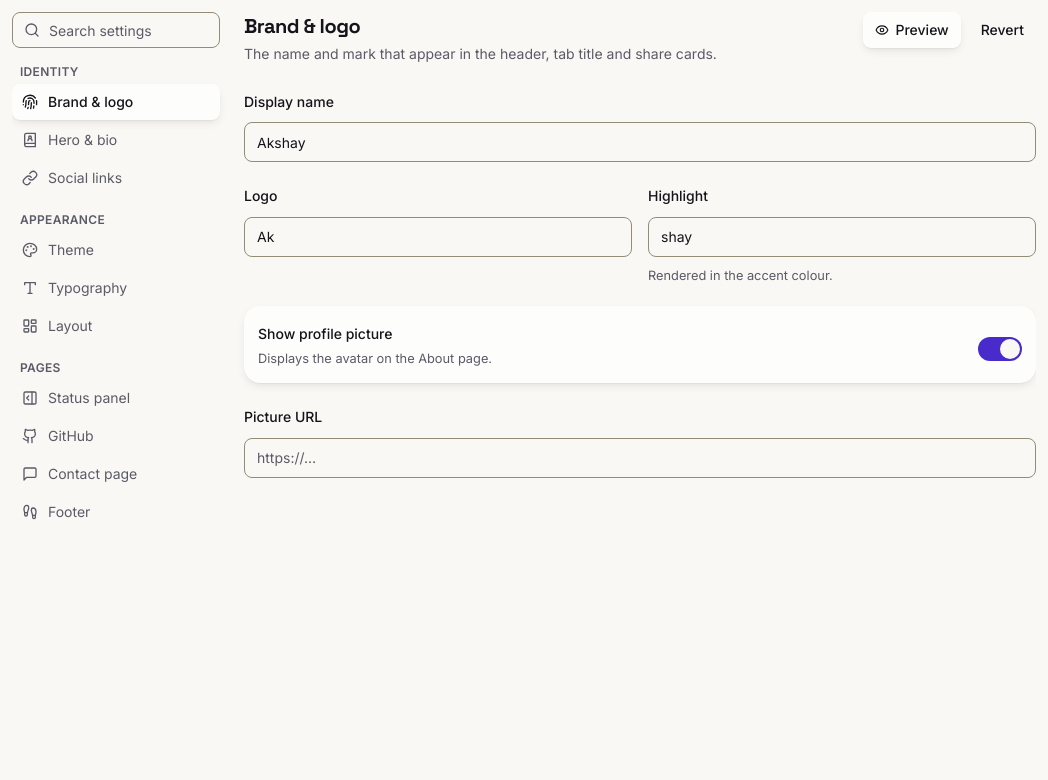
Test: SettingsPage save all › names every dirty group in the bar
Replace the text in the field labelled "Display name" with "Akshay B" at (640, 142), box [244,122,1036,162]
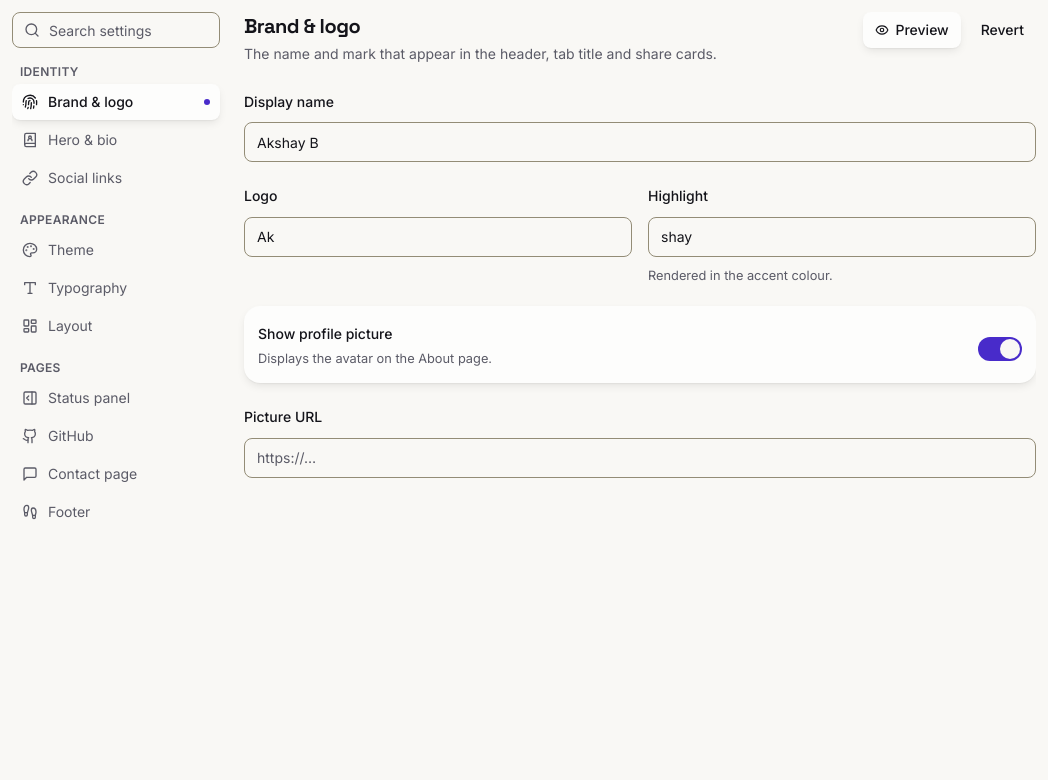
Click the button "Footer" at (116, 512), box [12,494,220,530]
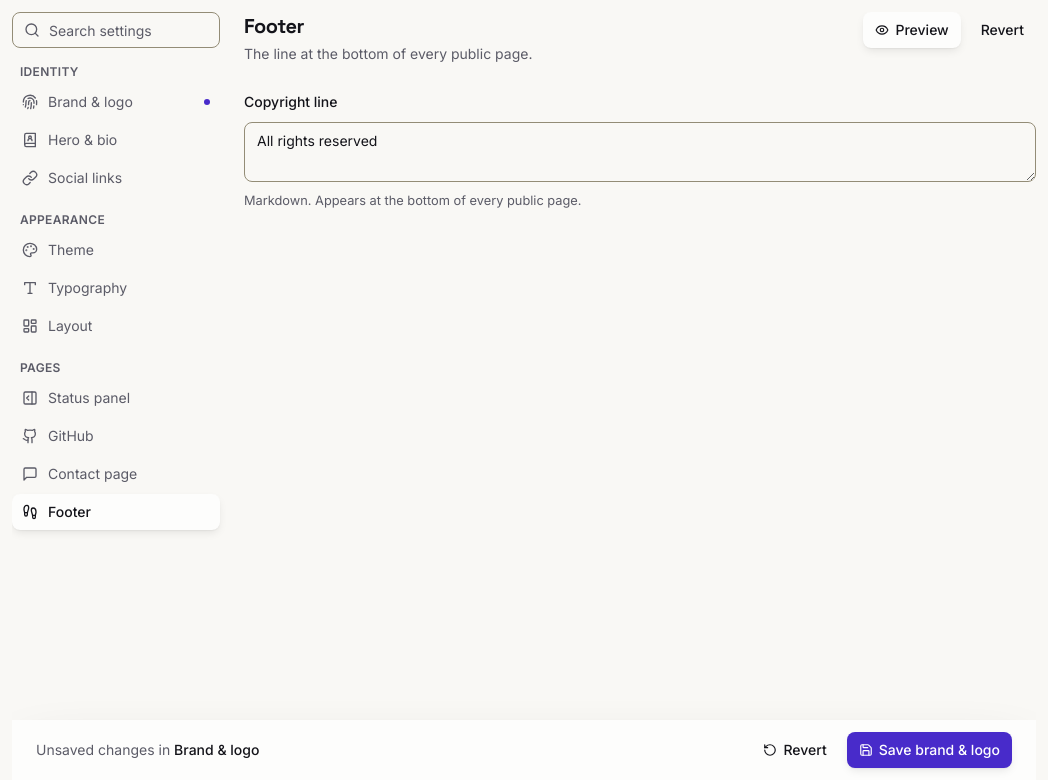
Replace the text in the text box labelled "Copyright line" with "© 2026" at (640, 152), box [244,122,1036,182]
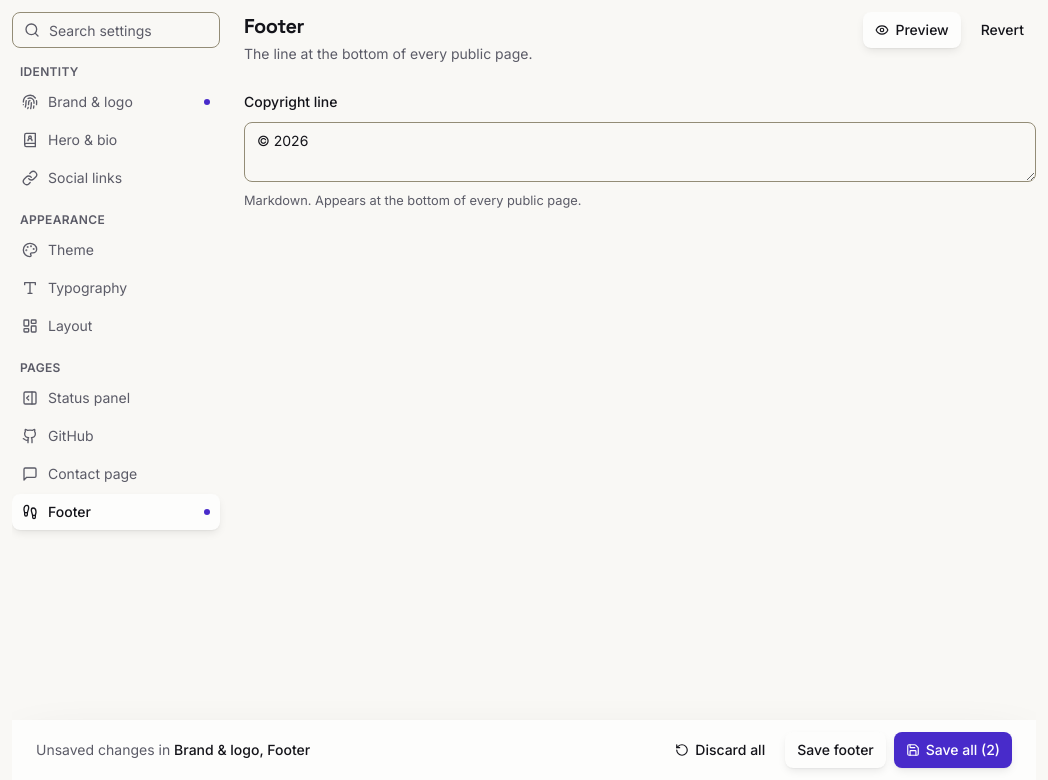
Expected: the text "Brand & logo, Footer" is shown, [174,741,310,758]
